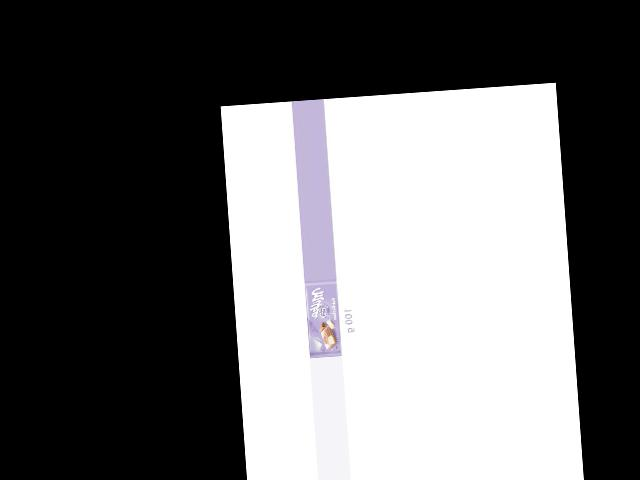chocolate: (304, 279, 343, 358)
